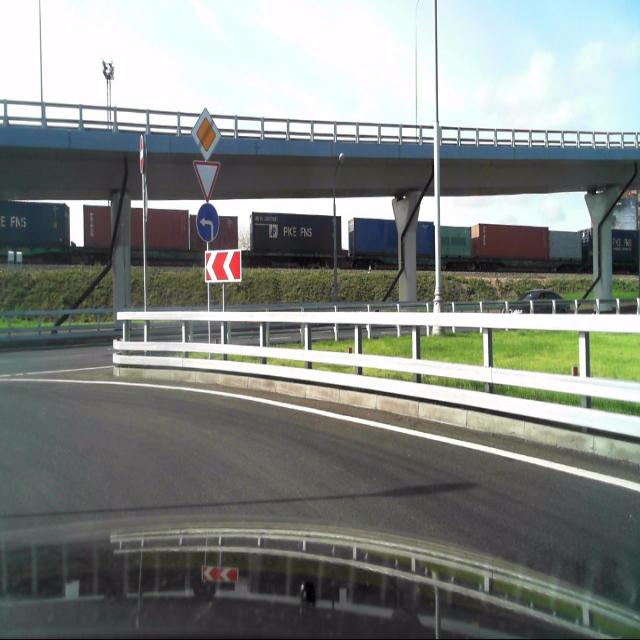road sign: (188, 107, 222, 161), (192, 161, 222, 204)
